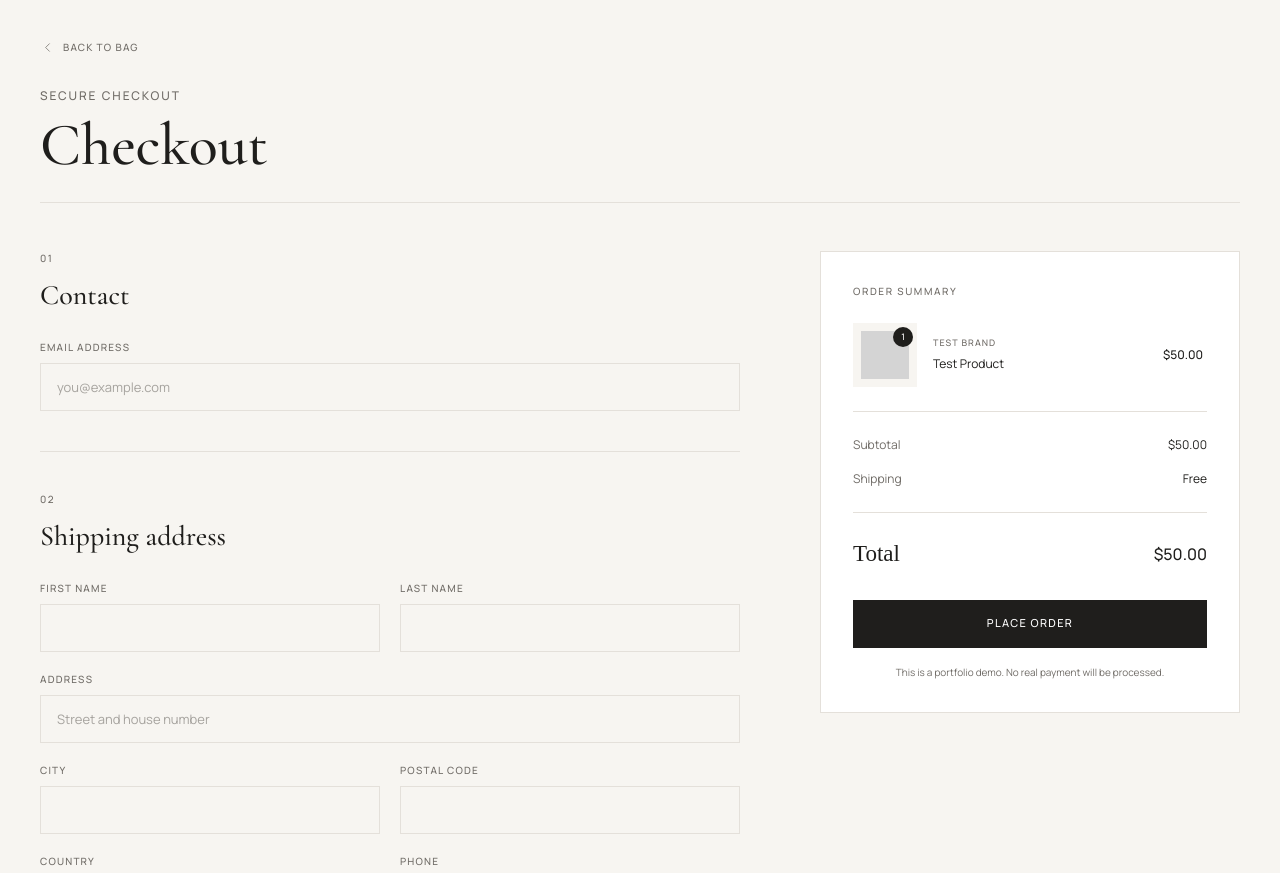
Test: Checkout › shows validation errors when required fields are empty
What coordinates should you click on to do the following:
click the button "Place order"
I would click on:
 (1030, 624)
Its box is [853,600,1207,648].
(page scrolled)
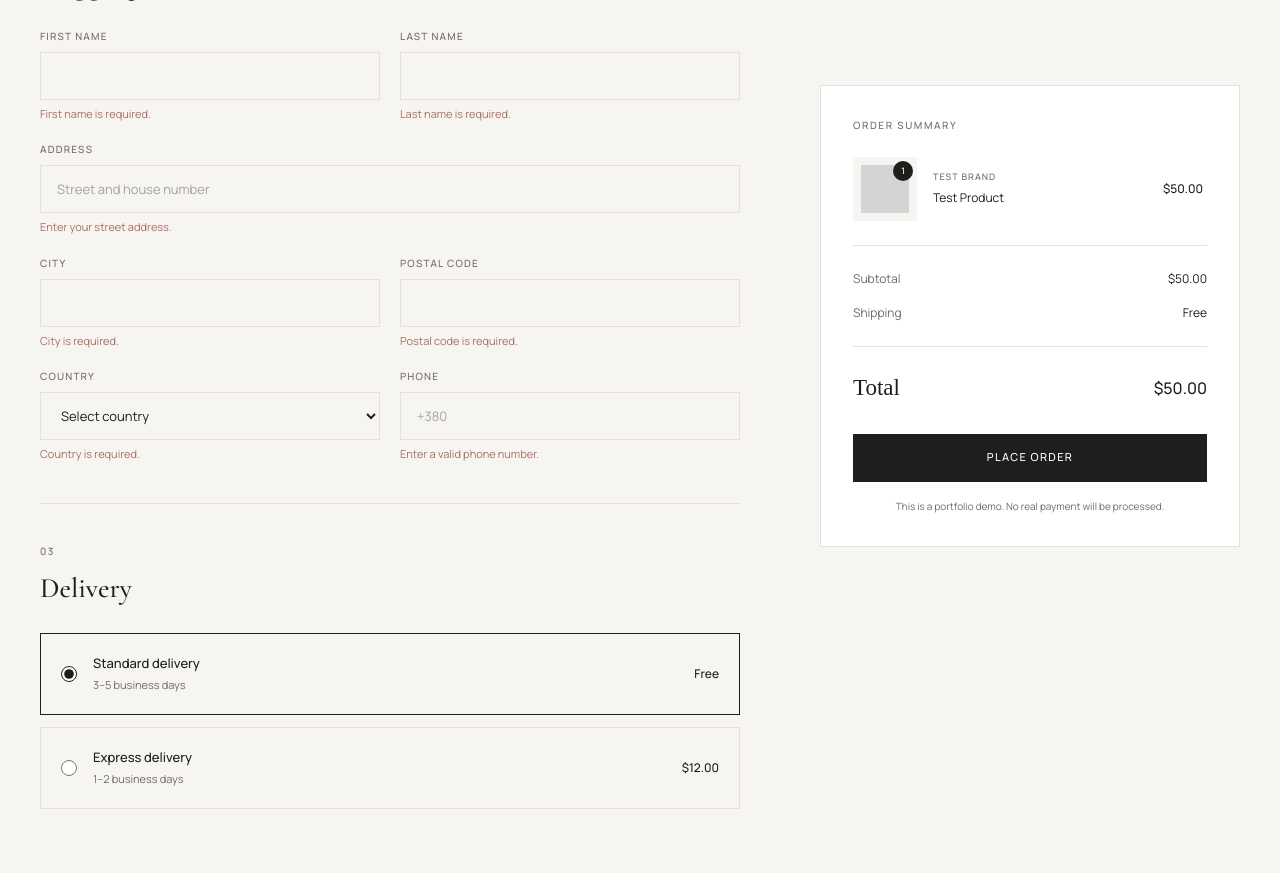
Check: the text "First name is required." is shown, box [40,106,151,120]
Check: the text "Last name is required." is shown, box [400,106,511,120]
Check: the text "Enter your street address." is shown, box [40,219,172,234]
